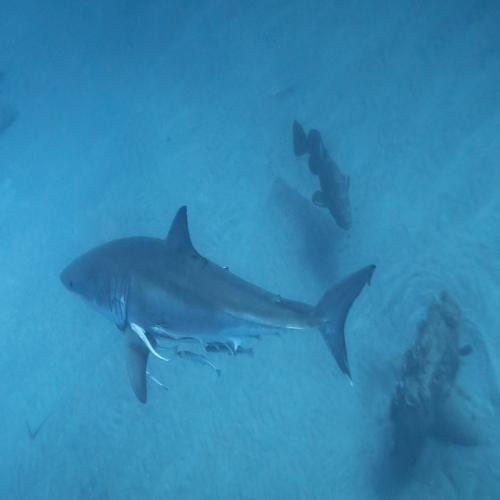shark-endangered: (53, 221, 351, 363)
